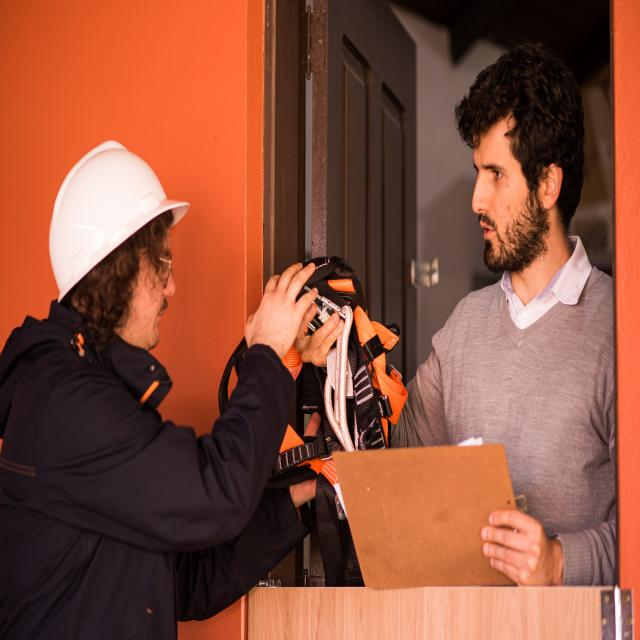capacete: (45, 134, 194, 312)
